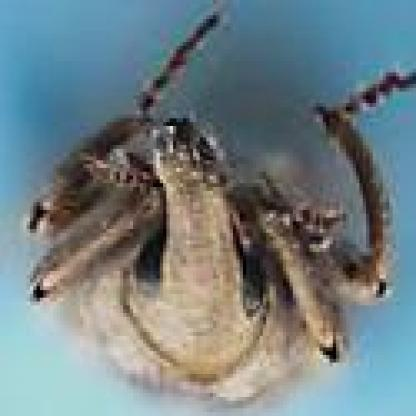rice-bug: (18, 22, 392, 408)
